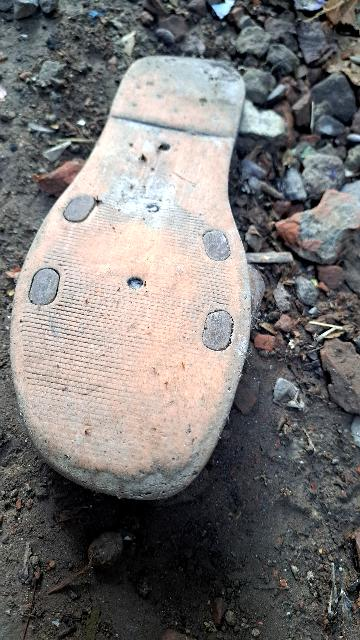sandal: (0, 33, 316, 497)
